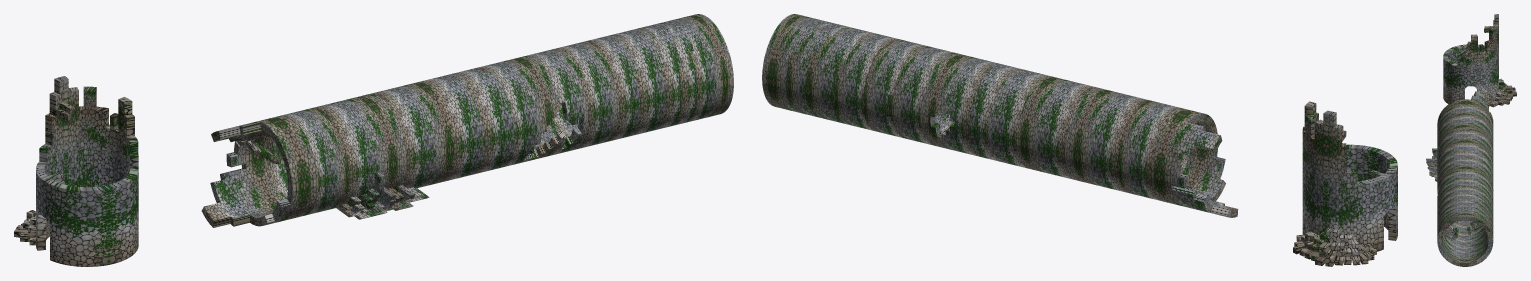
Rendered from Collapsed_Tower_Optimized.glb.
3 views of the same model, side by side, from view 1: azimuth 30°, elevation 25°; view 2: azimuth 150°, elevation 25°; view 3: azimuth 270°, elevation 25° (orthographic). The views are drawn at different scales.
Visible parts, largest first — view 1: polySurface2, polySurface1; view 2: polySurface2, polySurface1; view 3: polySurface2, polySurface1.
Boxes of the visible parts, left/top/right/bottom form: polySurface2: left=201, top=14, right=733, bottom=227; polySurface1: left=14, top=76, right=138, bottom=266; polySurface2: left=762, top=14, right=1238, bottom=217; polySurface1: left=1293, top=101, right=1397, bottom=266; polySurface2: left=1426, top=91, right=1493, bottom=266; polySurface1: left=1443, top=14, right=1516, bottom=107.
Size of the model in its own units: 3.61 by 0.8421 by 0.7898.
Materials: 1 (1 with a texture image).
